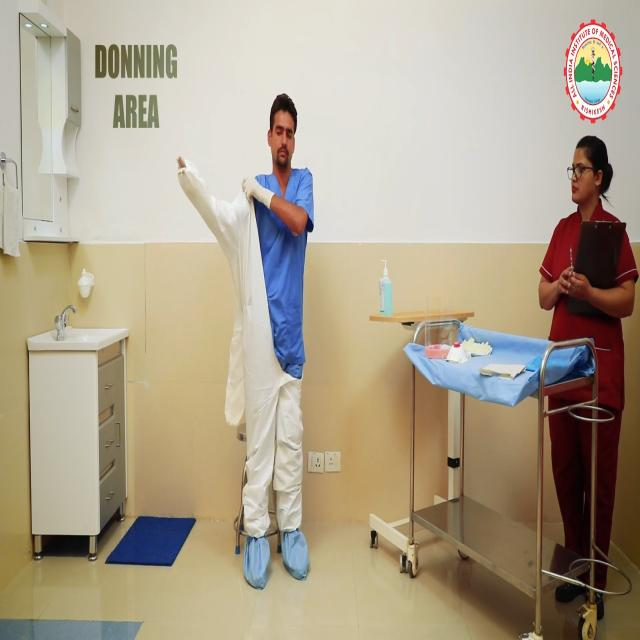Gloves: (241, 169, 277, 222)
